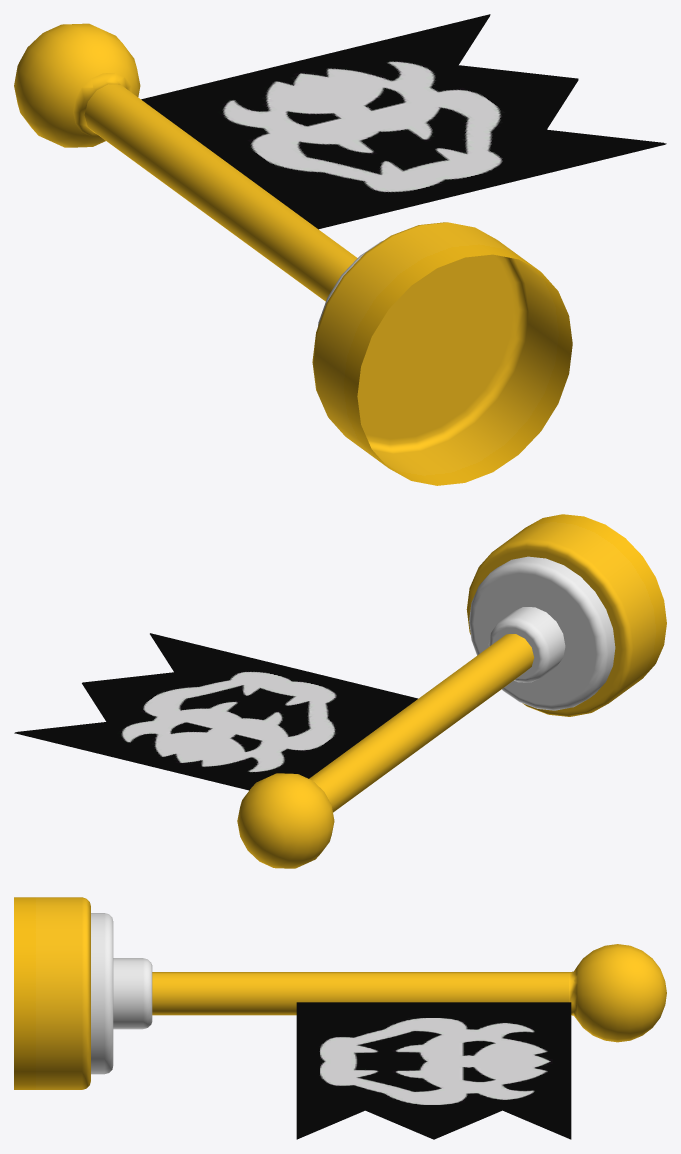
Rendered from flag.glb.
3 views of the same model, one above another, from view 1: azimuth 30°, elevation 25°; view 2: azimuth 150°, elevation 25°; view 3: azimuth 270°, elevation 25° (orthographic). The views are drawn at different scales.
Visible parts, largest first — view 1: CheckpointFlag__CheckpointFlagBodyMat00; view 2: CheckpointFlag__CheckpointFlagBodyMat00; view 3: CheckpointFlag__CheckpointFlagBodyMat00.
Boxes of the visible parts, x1,y1,x2,y2 form: CheckpointFlag__CheckpointFlagBodyMat00: (14, 14, 666, 485); CheckpointFlag__CheckpointFlagBodyMat00: (14, 514, 666, 868); CheckpointFlag__CheckpointFlagBodyMat00: (14, 897, 666, 1139).
Size of the model in its own units: 4.08 by 1.79 by 6.04.
2 materials, 2 textured.
